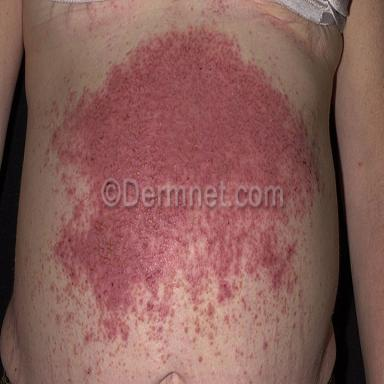Darier_s-Disease: (52, 20, 322, 344)
